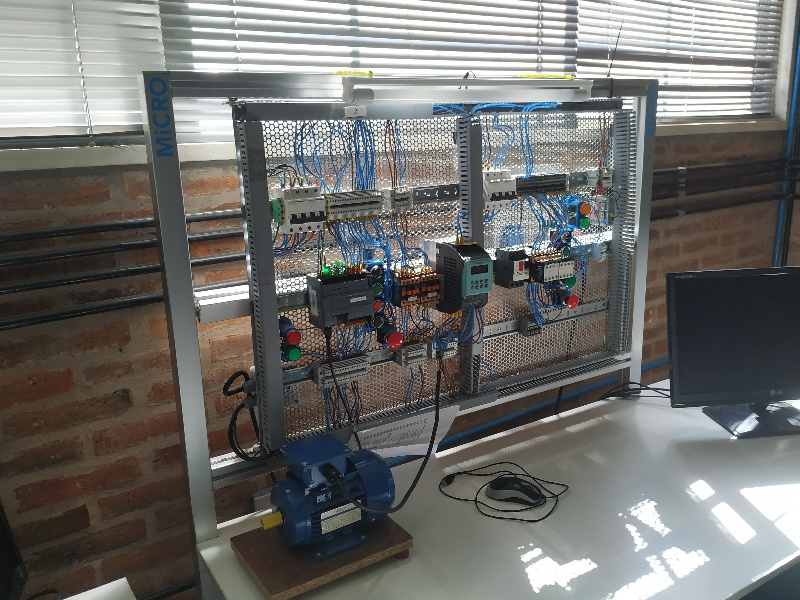Tablero 2: (259, 113, 638, 427)
